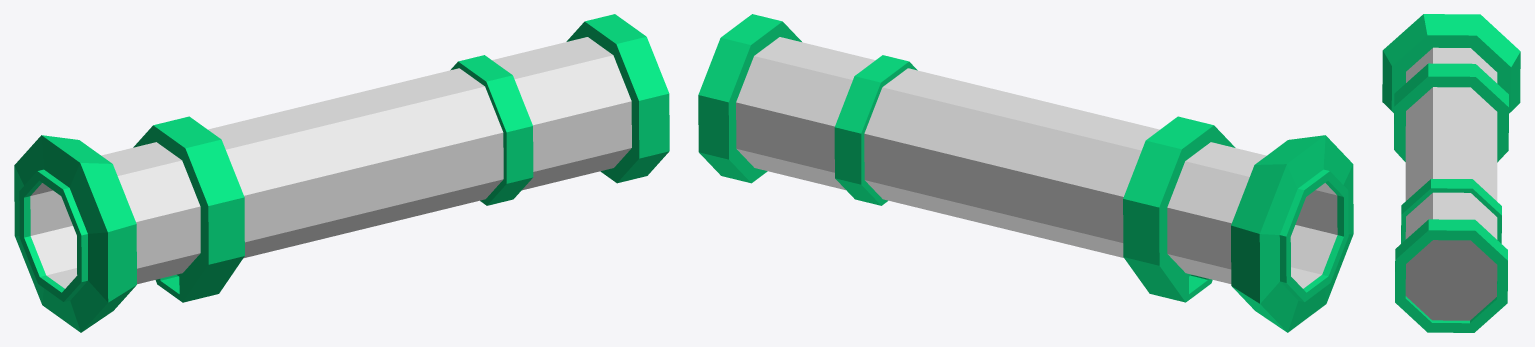
File: bazooka.fbx
3 views of the same model, side by side, from view 1: azimuth 30°, elevation 25°; view 2: azimuth 150°, elevation 25°; view 3: azimuth 270°, elevation 25° (orthographic). The views are drawn at different scales.
Parts seen in each view (by area): view 1: Cube; view 2: Cube; view 3: Cube.
Part boxes in pixels (x1,y1,x2,y2): Cube: (14, 14, 669, 332); Cube: (698, 14, 1353, 332); Cube: (1382, 14, 1520, 332).
Bounding box in the file's own units: 2396 × 674 × 671.
